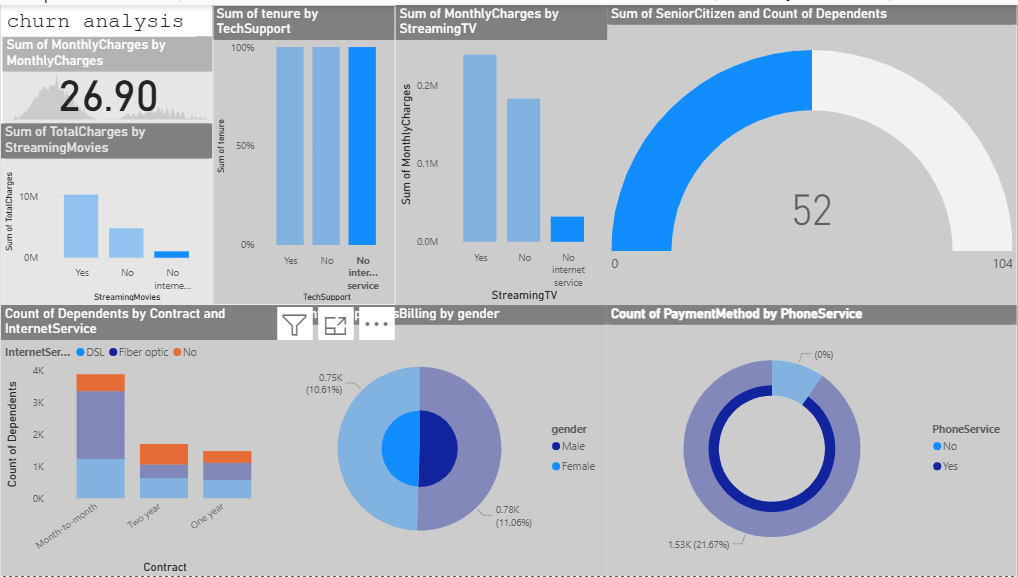

The dashboard page shown, as its layout file describes it:
{"tool":"powerbi","page":{"name":"Page 1","canvas":[1280,720],"ordinal":0},"visuals":[{"type":"columnChart","fields":{"Category":["WA_Fn-UseC_-Telco-Customer-Chur.Contract"],"Y":["CountNonNull(WA_Fn-UseC_-Telco-Customer-Chur.Dependents)"],"Series":["WA_Fn-UseC_-Telco-Customer-Chur.InternetService"]},"box":[0,378,355.3,342],"z":0},{"type":"kpi","fields":{"TrendLine":["WA_Fn-UseC_-Telco-Customer-Chur.MonthlyCharges"],"Indicator":["Sum(WA_Fn-UseC_-Telco-Customer-Chur.MonthlyCharges)"]},"box":[1.9,39.7,266.5,109.6],"z":1},{"type":"donutChart","fields":{"Y":["CountNonNull(WA_Fn-UseC_-Telco-Customer-Chur.PaymentMethod)"],"Series":["WA_Fn-UseC_-Telco-Customer-Chur.PhoneService"]},"box":[763.5,378,515.9,342],"z":2},{"type":"pieChart","fields":{"Category":["WA_Fn-UseC_-Telco-Customer-Chur.gender"],"Y":["CountNonNull(WA_Fn-UseC_-Telco-Customer-Chur.PaperlessBilling)"]},"box":[355.3,378,408.2,342],"z":3},{"type":"gauge","fields":{"Y":["Sum(WA_Fn-UseC_-Telco-Customer-Chur.SeniorCitizen)"]},"box":[763.5,0,515.9,378],"z":5},{"type":"clusteredColumnChart","fields":{"Y":["Sum(WA_Fn-UseC_-Telco-Customer-Chur.MonthlyCharges)"],"Category":["WA_Fn-UseC_-Telco-Customer-Chur.StreamingTV"]},"box":[497,0,266.5,378],"z":6},{"type":"columnChart","fields":{"Category":["WA_Fn-UseC_-Telco-Customer-Chur.StreamingMovies"],"Y":["Sum(WA_Fn-UseC_-Telco-Customer-Chur.TotalCharges)"]},"box":[0,149.3,266.5,228.7],"z":7},{"type":"hundredPercentStackedColumnChart","fields":{"Y":["Sum(WA_Fn-UseC_-Telco-Customer-Chur.tenure)"],"Category":["WA_Fn-UseC_-Telco-Customer-Chur.TechSupport"]},"box":[266.5,0,230.6,378],"z":8},{"type":"textbox","box":[1.9,0,243.8,39.7],"z":9}]}

Visuals, with their boxes in screenshot pixels (x1, y1, x2, y2), scaled from the page's 1280x720 canvas onto the 1018x577 screenshot:
columnChart - WA_Fn-UseC_-Telco-Customer-Chur.Contract x CountNonNull(WA_Fn-UseC_-Telco-Customer-Chur.Dependents): pyautogui.locateOnScreen(0, 303, 283, 576)
kpi - WA_Fn-UseC_-Telco-Customer-Chur.MonthlyCharges x Sum(WA_Fn-UseC_-Telco-Customer-Chur.MonthlyCharges): pyautogui.locateOnScreen(2, 32, 213, 120)
donutChart - CountNonNull(WA_Fn-UseC_-Telco-Customer-Chur.PaymentMethod) x WA_Fn-UseC_-Telco-Customer-Chur.PhoneService: pyautogui.locateOnScreen(607, 303, 1017, 576)
pieChart - WA_Fn-UseC_-Telco-Customer-Chur.gender x CountNonNull(WA_Fn-UseC_-Telco-Customer-Chur.PaperlessBilling): pyautogui.locateOnScreen(283, 303, 607, 576)
gauge - Sum(WA_Fn-UseC_-Telco-Customer-Chur.SeniorCitizen): pyautogui.locateOnScreen(607, 0, 1017, 303)
clusteredColumnChart - Sum(WA_Fn-UseC_-Telco-Customer-Chur.MonthlyCharges) x WA_Fn-UseC_-Telco-Customer-Chur.StreamingTV: pyautogui.locateOnScreen(395, 0, 607, 303)
columnChart - WA_Fn-UseC_-Telco-Customer-Chur.StreamingMovies x Sum(WA_Fn-UseC_-Telco-Customer-Chur.TotalCharges): pyautogui.locateOnScreen(0, 120, 212, 303)
hundredPercentStackedColumnChart - Sum(WA_Fn-UseC_-Telco-Customer-Chur.tenure) x WA_Fn-UseC_-Telco-Customer-Chur.TechSupport: pyautogui.locateOnScreen(212, 0, 395, 303)
textbox: pyautogui.locateOnScreen(2, 0, 195, 32)
